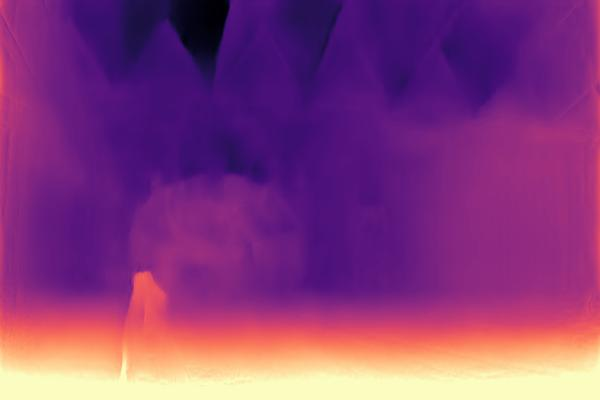Real_Tunnel: (119, 168, 316, 309)
